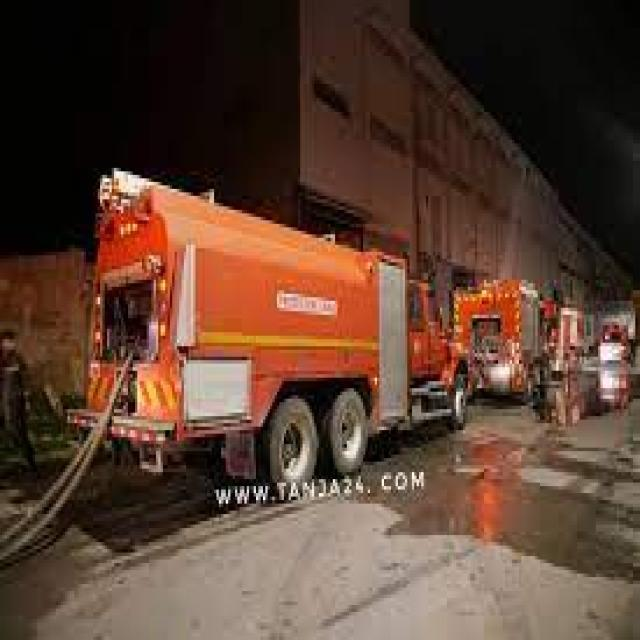emergency: (5, 112, 495, 570)
